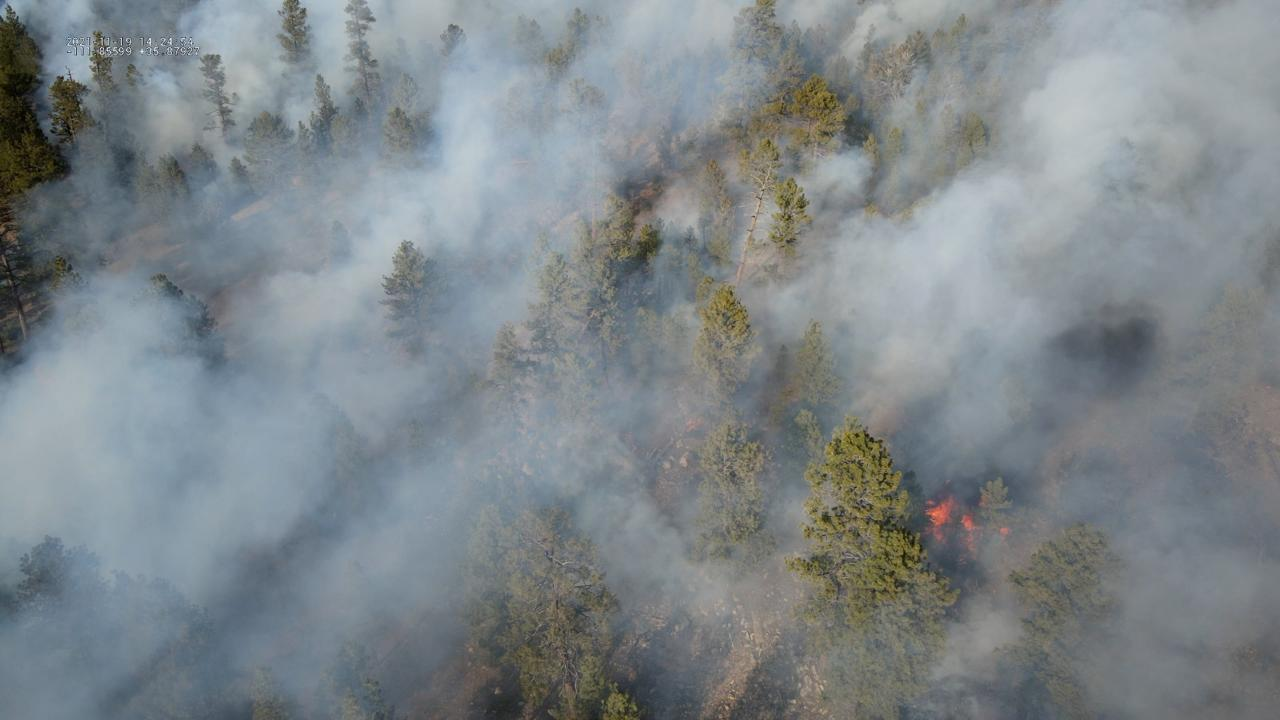fire: (921, 492, 958, 545), (960, 509, 986, 564), (997, 526, 1014, 540)
smoke: (0, 0, 1280, 720)
